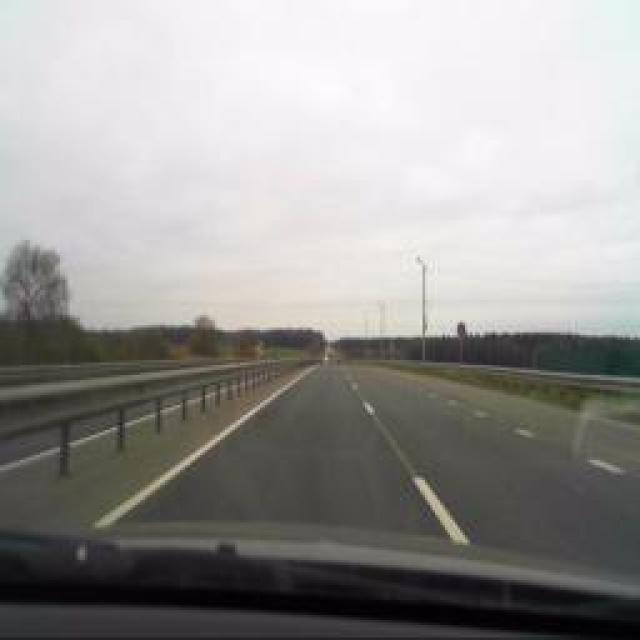sign: (455, 319, 467, 341)
